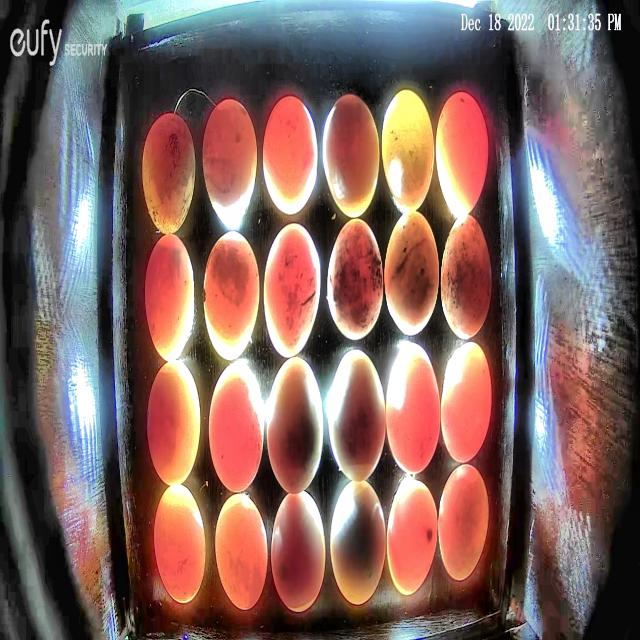DE: (263, 222, 322, 358), (267, 356, 323, 495), (202, 231, 260, 362), (328, 350, 386, 481), (208, 361, 264, 494), (386, 342, 442, 474), (322, 94, 380, 219), (202, 98, 257, 228), (327, 218, 385, 341), (330, 478, 386, 604), (140, 110, 196, 235), (262, 95, 318, 215), (384, 213, 439, 334), (272, 489, 326, 612), (147, 361, 200, 486), (440, 212, 492, 339), (143, 236, 194, 362), (154, 482, 206, 604), (437, 90, 488, 214), (382, 90, 434, 211), (215, 492, 267, 610), (438, 462, 489, 581), (442, 342, 492, 462), (387, 480, 438, 594)
